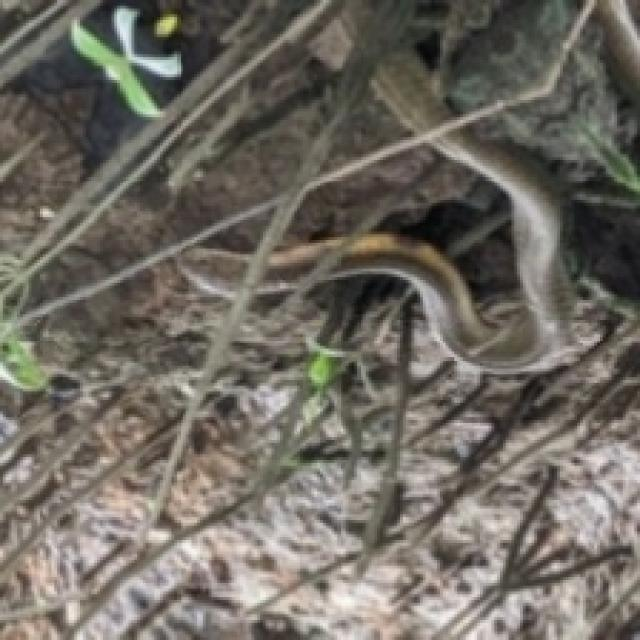king cobra: (271, 129, 571, 369), (255, 238, 372, 297), (180, 248, 249, 299)
